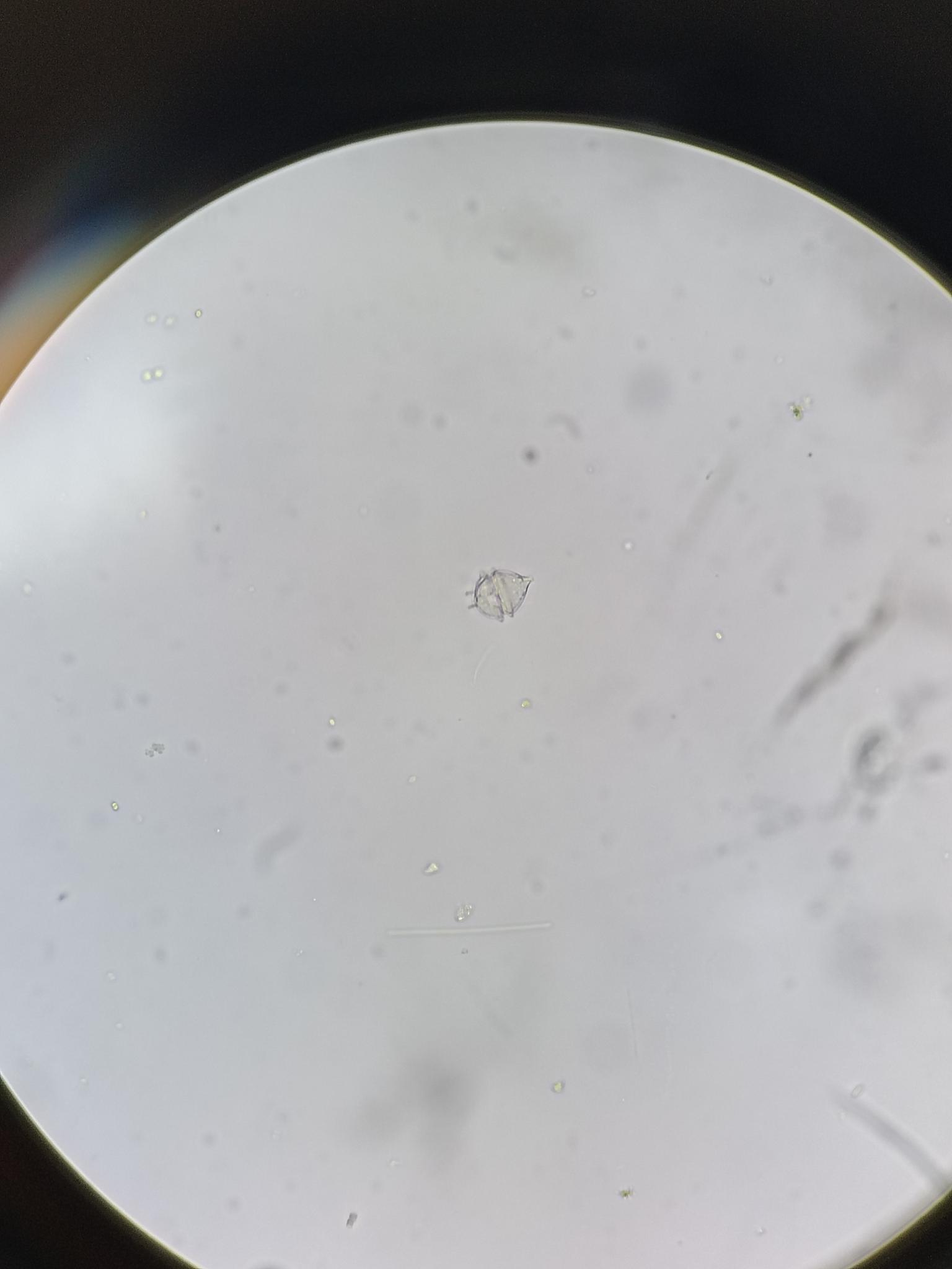Navicula: (454, 559, 539, 627)
